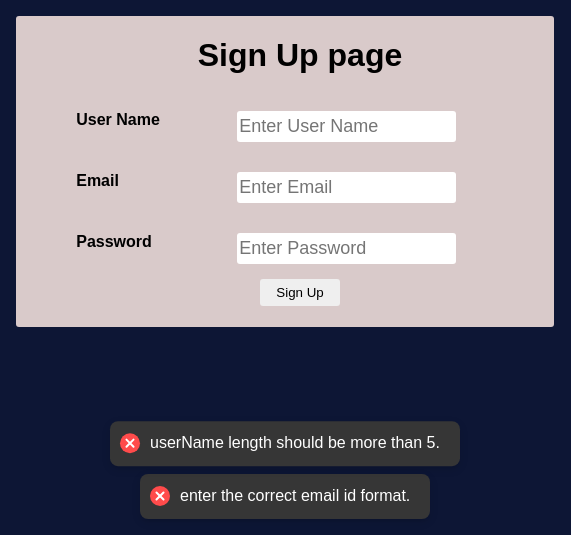
Scenario: testing for signUp Page › when password is Invalid and submit the form
Type "tikam suvasiya" into the field with placeholder "Enter User Name" at point(347, 126), box [237,111,456,142]
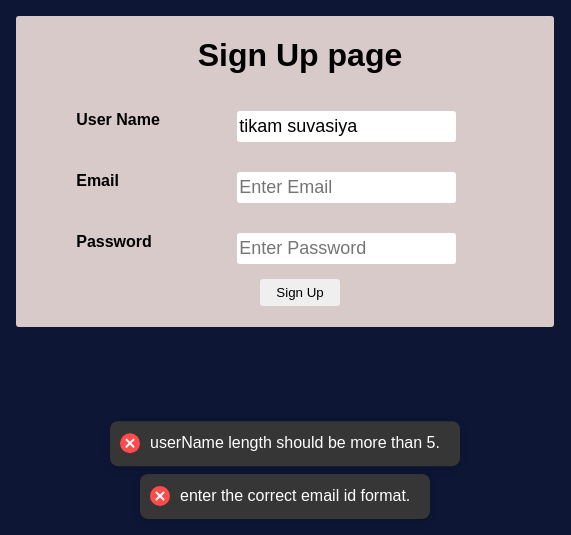
Type "xyz@gmail.com" into the field with placeholder "Enter Email" at point(347, 187), box [237,172,456,203]
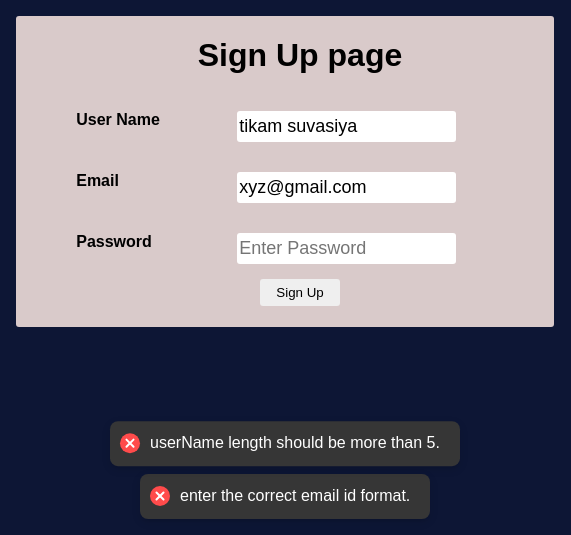
Click the button at point(300, 292), box [260,279,340,306]
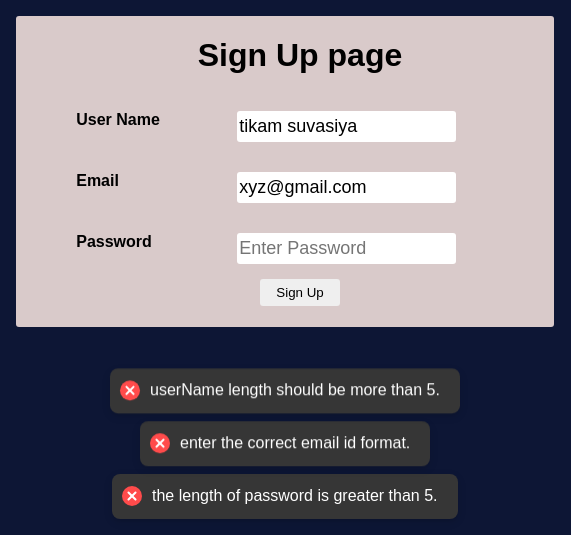
Now the text "the length of password is greater than 5." is shown, box [152,486,438,507]
